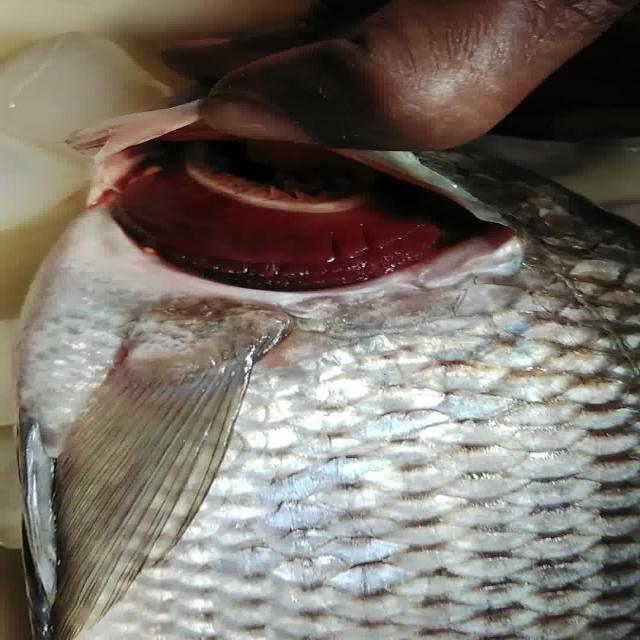Fresh: (95, 146, 520, 304)
